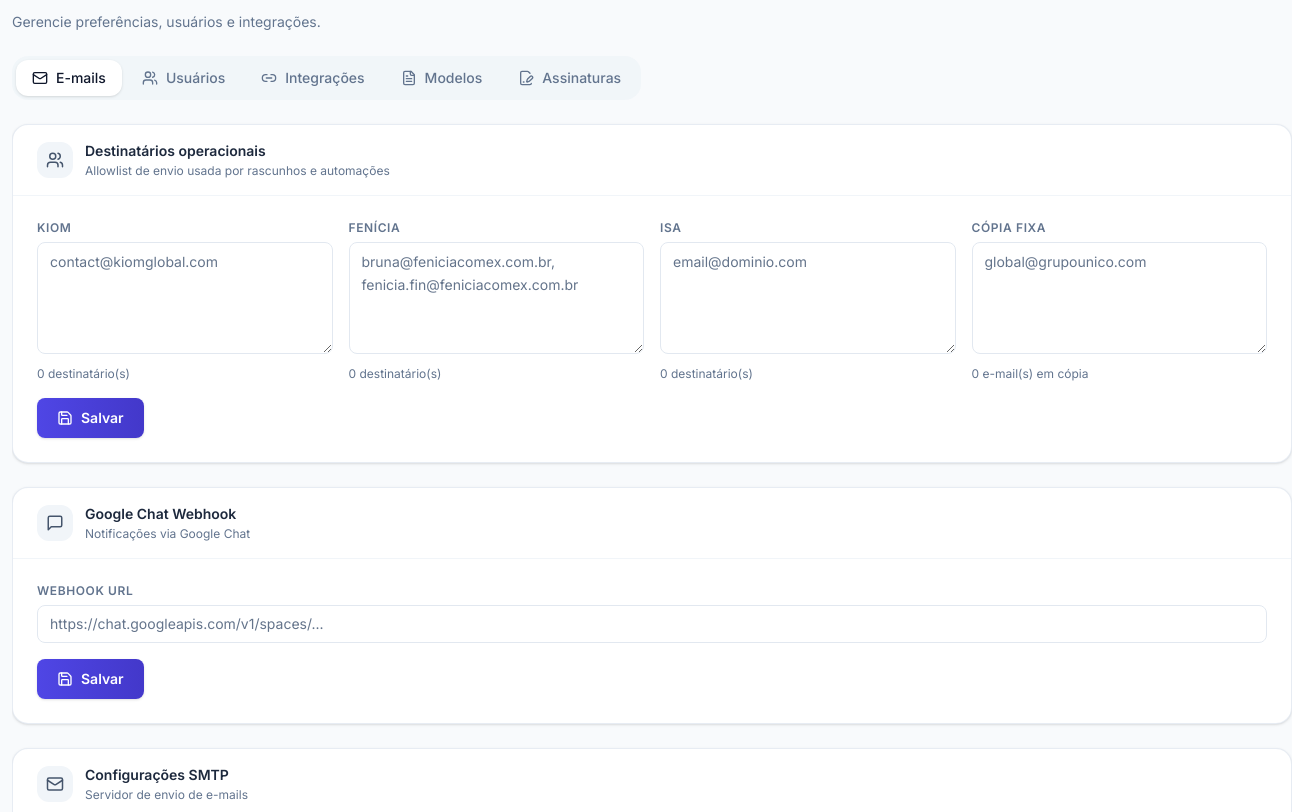
it: SettingsPage — abas de Modelos e Assinaturas › mostra erro em vez de convidar a criar a primeira assinatura
Step 1. Click the button "Assinaturas" → (570, 78), box [502,60,637,96]
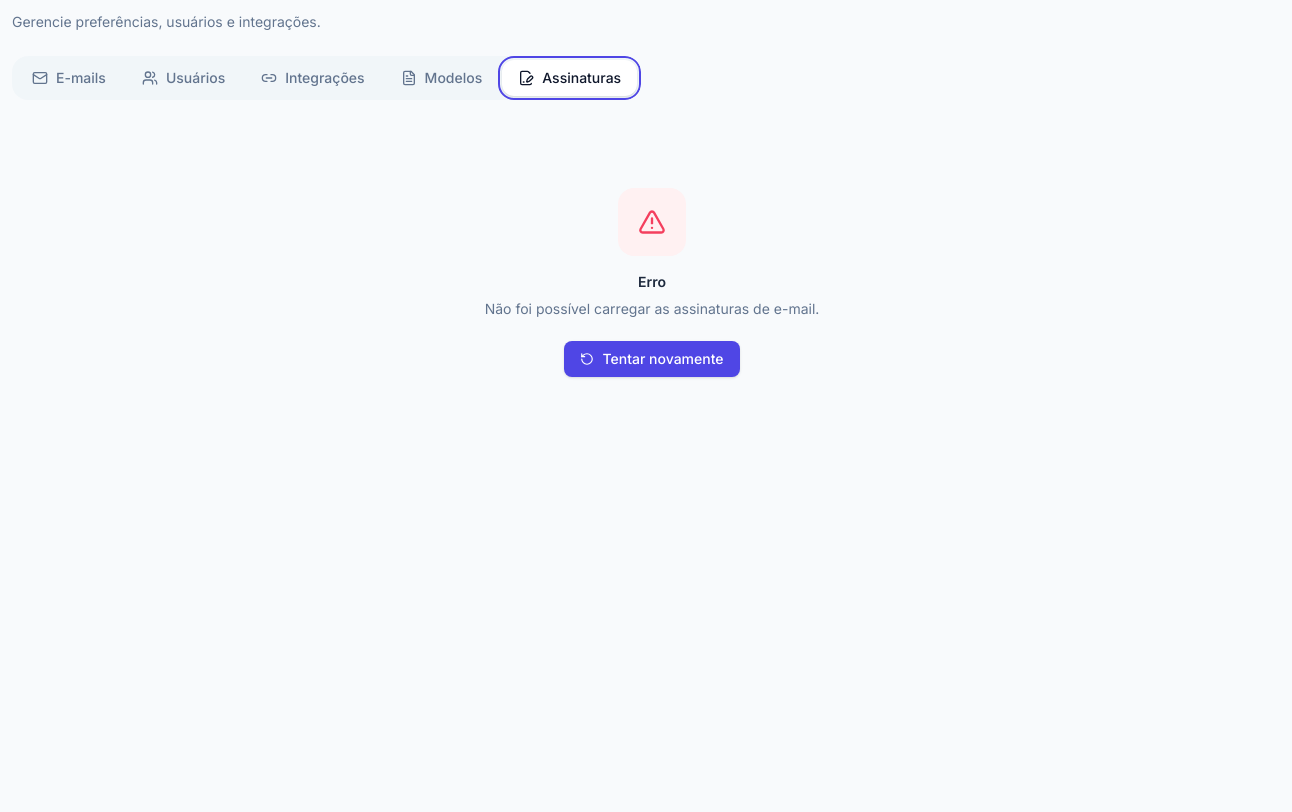
Expected: the text "Não foi possível carregar as assinaturas de e-mail." is shown, [485,298,819,321]
